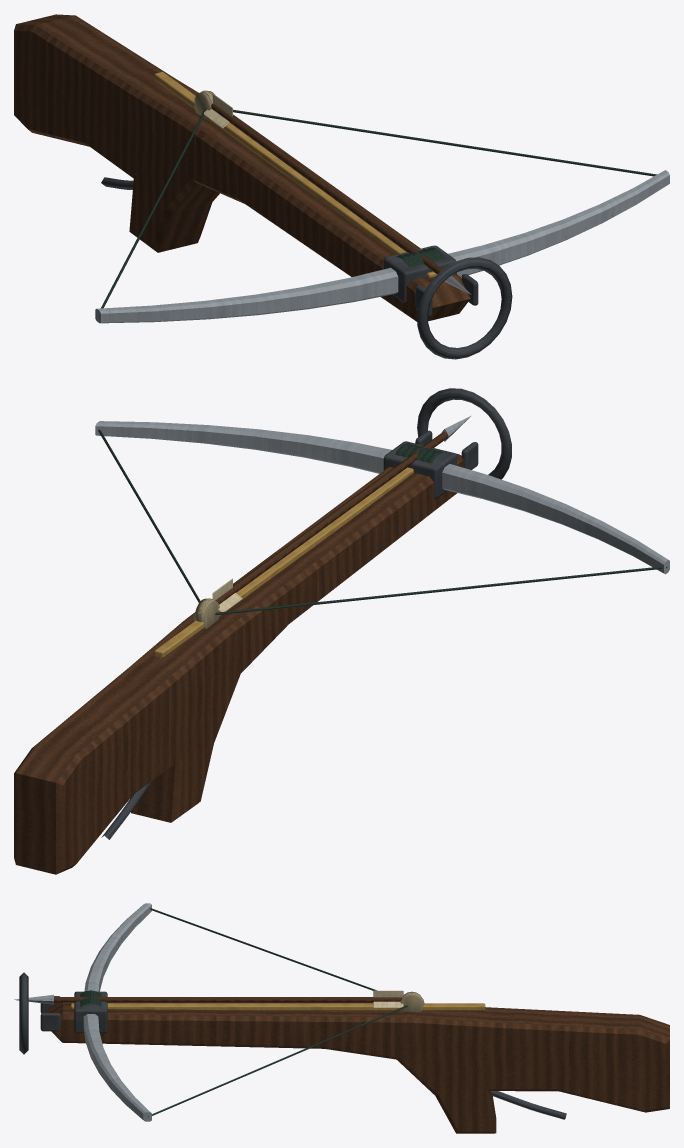
Rendered from crossbow.lod1.glb.
The picture shows the model from 3 angles, top to bottom: view 1: azimuth 30°, elevation 25°; view 2: azimuth 150°, elevation 25°; view 3: azimuth 270°, elevation 25°; orthographic projection. The views are drawn at different scales.
Visible parts, largest first — view 1: wood / oiled hardwood, steel / forged blade steel, darksteel / oil-blackened fittings, brass / polished brass furniture, cord / waxed silk cord wrap; view 2: wood / oiled hardwood, steel / forged blade steel, darksteel / oil-blackened fittings, brass / polished brass furniture, cord / waxed silk cord wrap; view 3: wood / oiled hardwood, steel / forged blade steel, darksteel / oil-blackened fittings, brass / polished brass furniture, cord / waxed silk cord wrap, paper / paper and vellum, horn / polished horn and bone.
Boxes of the visible parts, x1=… form: wood / oiled hardwood: x1=14, y1=14, x2=470, y2=321; steel / forged blade steel: x1=95, y1=170, x2=669, y2=323; darksteel / oil-blackened fittings: x1=101, y1=177, x2=512, y2=359; brass / polished brass furniture: x1=154, y1=72, x2=436, y2=277; cord / waxed silk cord wrap: x1=97, y1=109, x2=656, y2=315; wood / oiled hardwood: x1=14, y1=432, x2=465, y2=874; steel / forged blade steel: x1=95, y1=415, x2=669, y2=574; darksteel / oil-blackened fittings: x1=101, y1=388, x2=511, y2=839; brass / polished brass furniture: x1=154, y1=467, x2=413, y2=657; cord / waxed silk cord wrap: x1=98, y1=429, x2=667, y2=615; wood / oiled hardwood: x1=45, y1=997, x2=669, y2=1133; steel / forged blade steel: x1=14, y1=903, x2=151, y2=1121; darksteel / oil-blackened fittings: x1=19, y1=972, x2=566, y2=1119; brass / polished brass furniture: x1=71, y1=1003, x2=485, y2=1010; cord / waxed silk cord wrap: x1=80, y1=908, x2=407, y2=1117; paper / paper and vellum: x1=373, y1=990, x2=403, y2=1007; horn / polished horn and bone: x1=400, y1=991, x2=424, y2=1012.
Bounding box in the file's own units: 0.7423 × 0.2479 × 0.981.
Materials: 7 (7 with a texture image).
